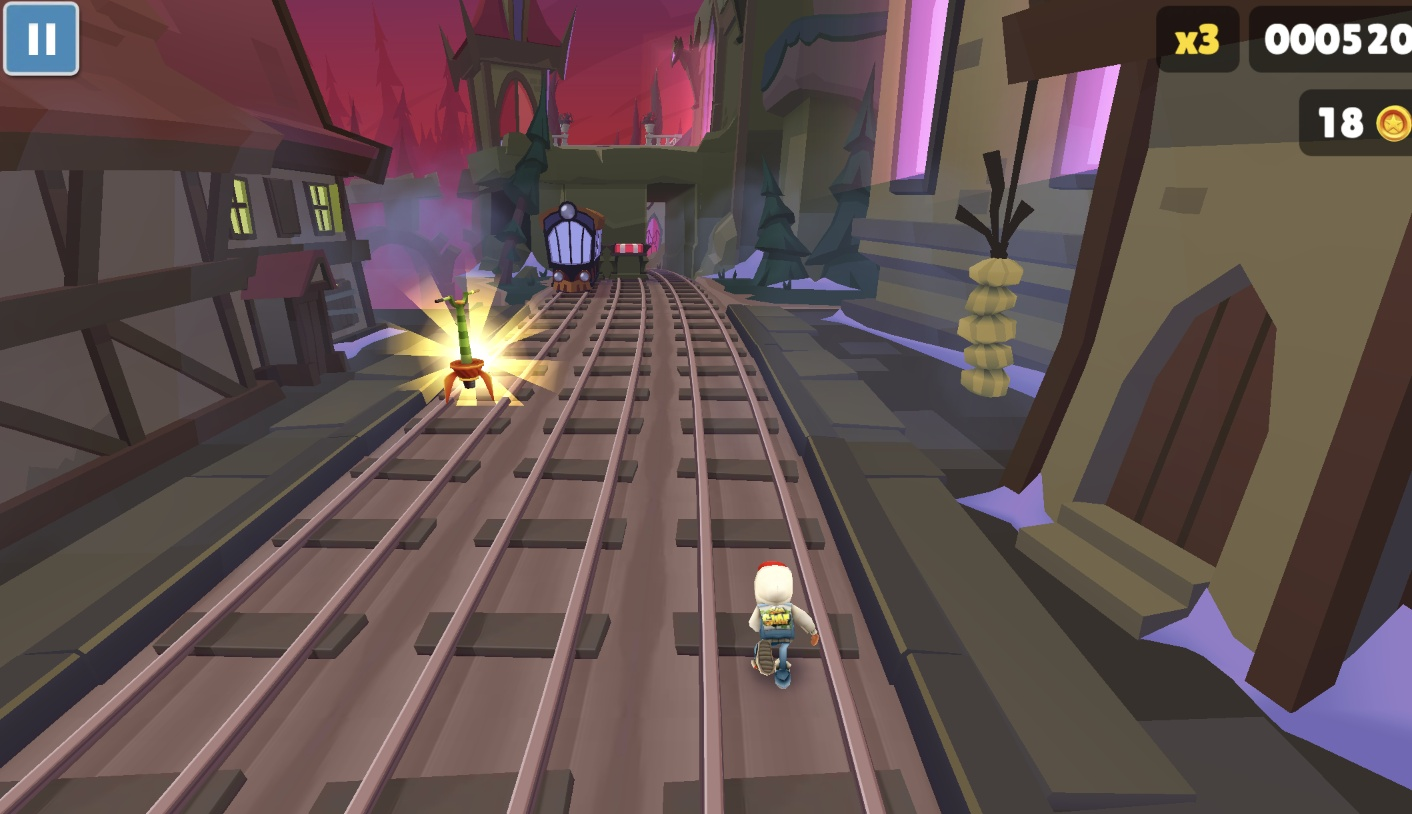ground_barrier: (603, 242, 649, 281)
train: (535, 202, 604, 296)
